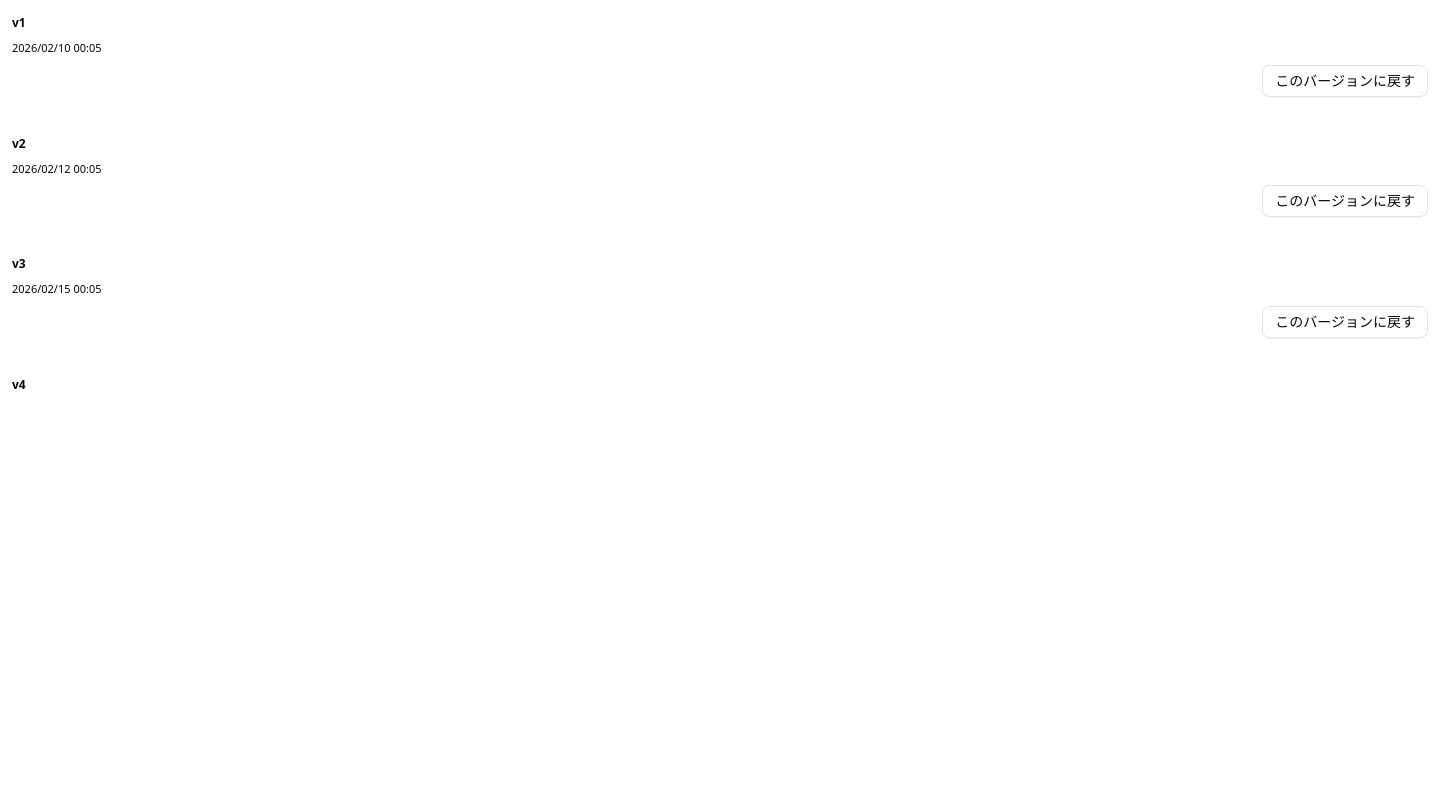
Test case: SnapshotList › contentがnullの場合は「スナップショットデータなし」を表示する
Expected: the element with test id "snapshot-list" is shown, [0,0,1439,400]
Click the button "v1 毎時 2026/02/10 00:05 このバージョンに戻す". click: click(720, 54)
box: [0,0,1439,108]
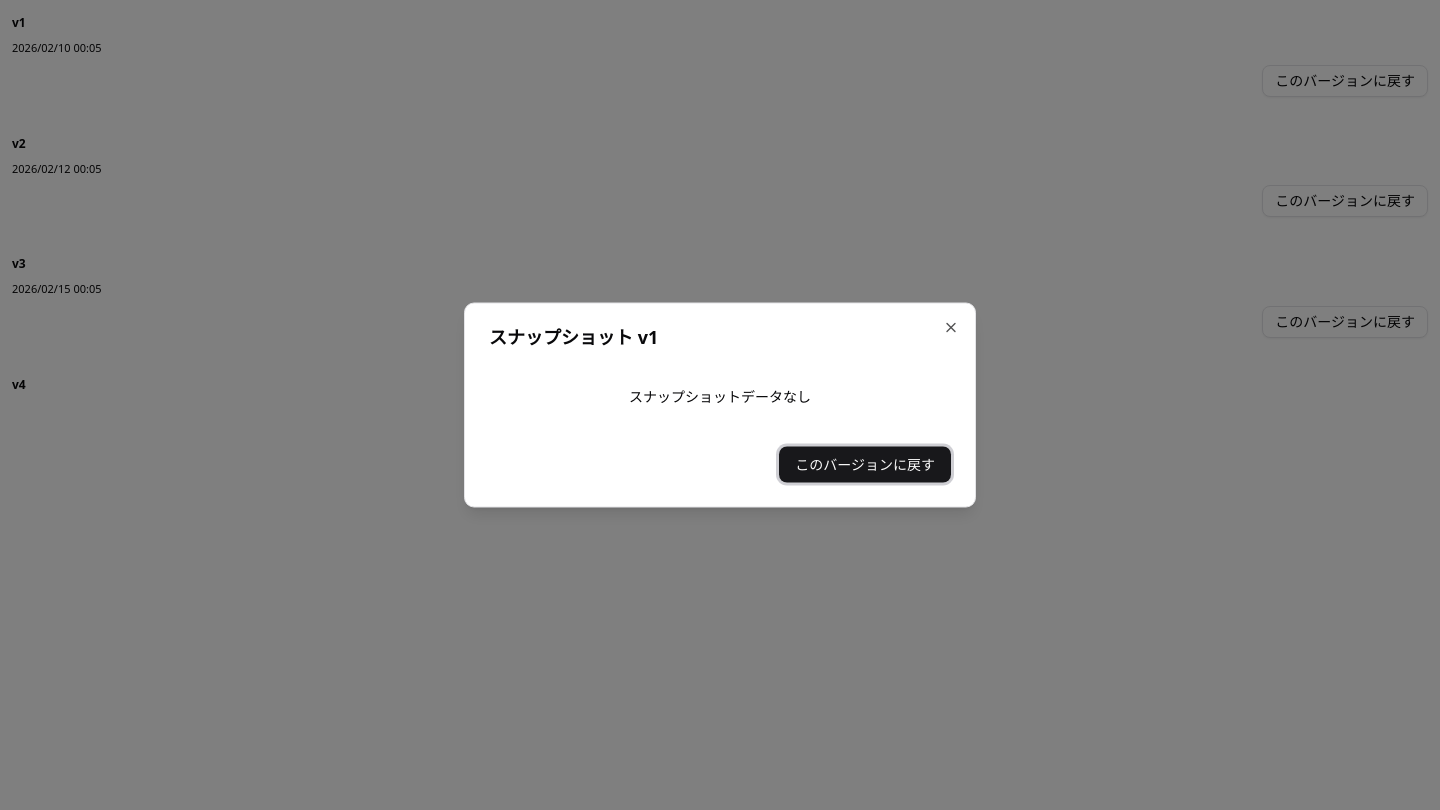
Now the text "スナップショットデータなし" is shown, box [629,386,811,406]
